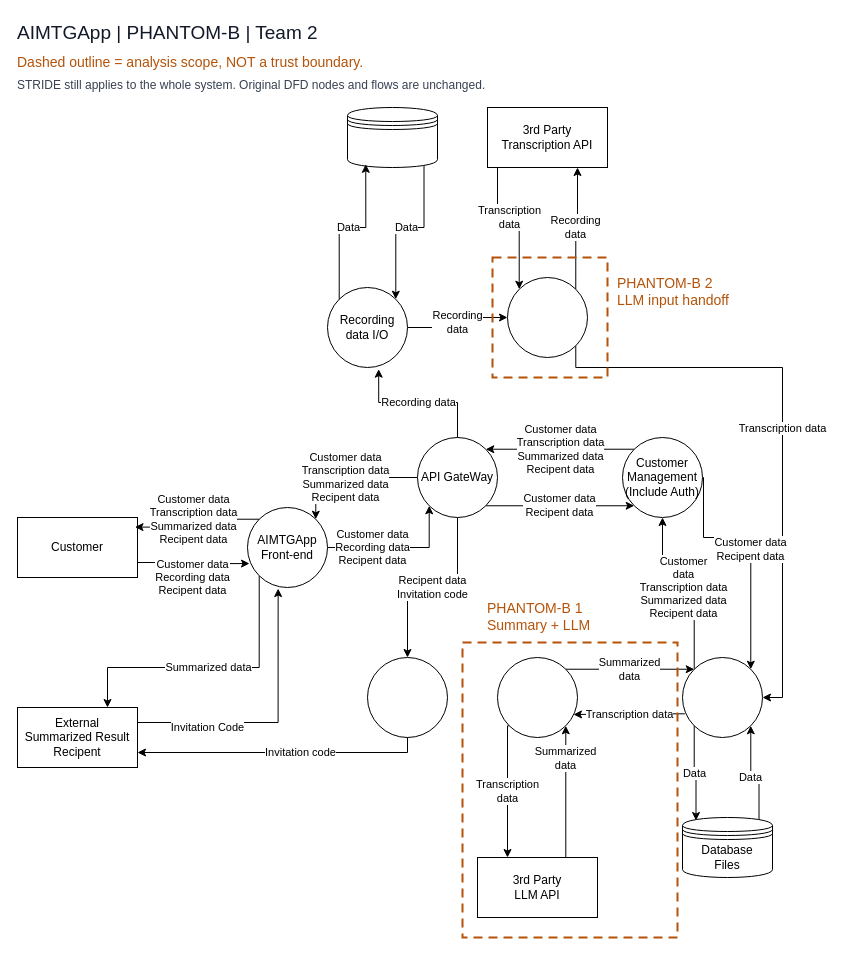
The diagram is 845 pixels wide and 955 high, and some of its shapes have lost their labels. Each missing label, with the centre of its shape:
Customer Database: the point at 722,697
Recording data stroage: the point at 392,137
Recording data transcriotion: the point at 547,317
Send Invitation Code: the point at 407,697
summarize transcription: the point at 537,697
